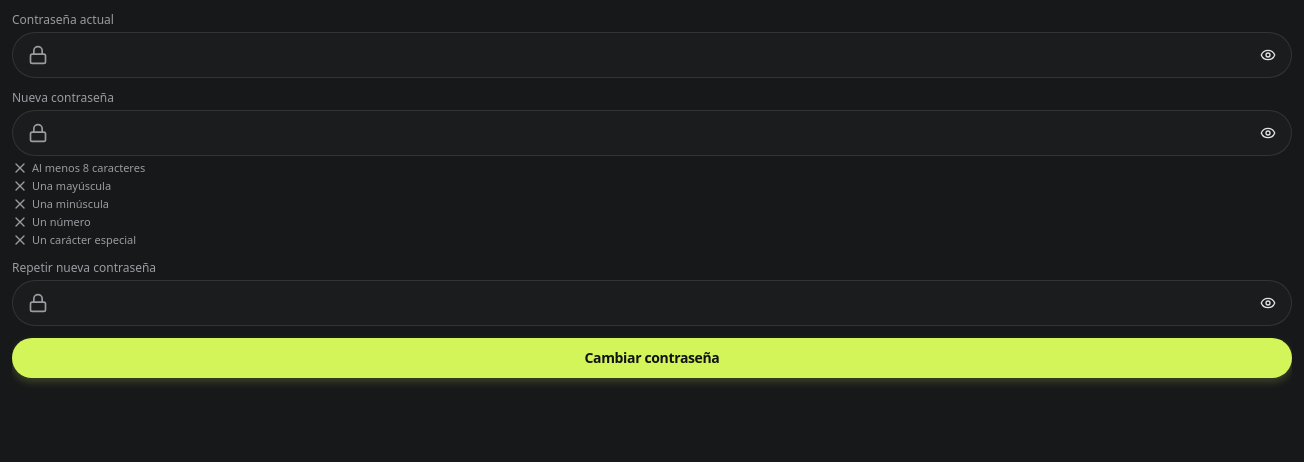
it: ChangePasswordForm › no envía si las contraseñas no coinciden
Step 1. Type "Athletica123!" into the password field labelled "Contraseña actual" → (652, 55), box [12, 32, 1292, 78]
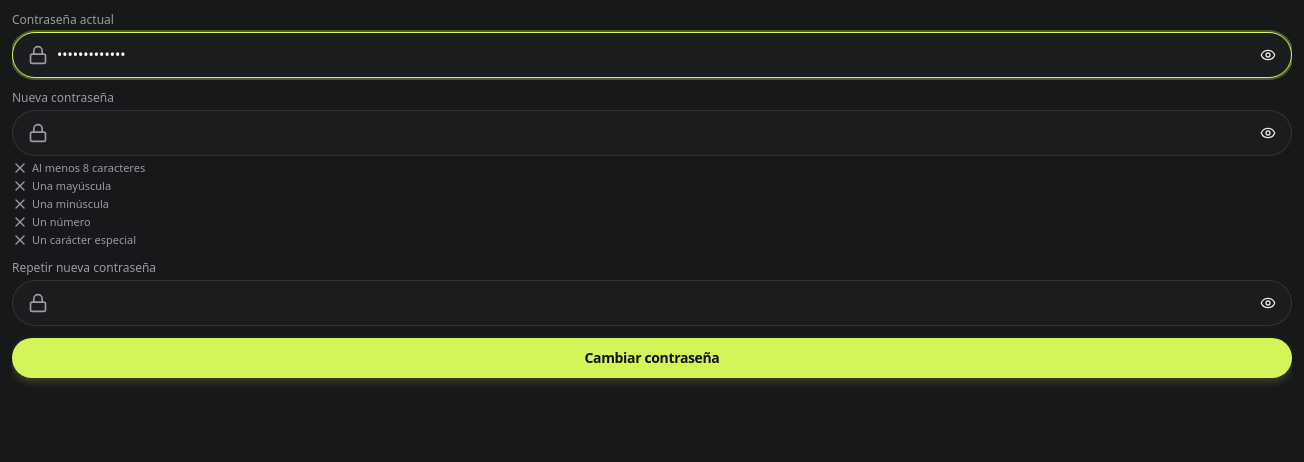
Step 2. Type "Athletica456!" into the password field labelled "Nueva contraseña" → (652, 133), box [12, 110, 1292, 156]
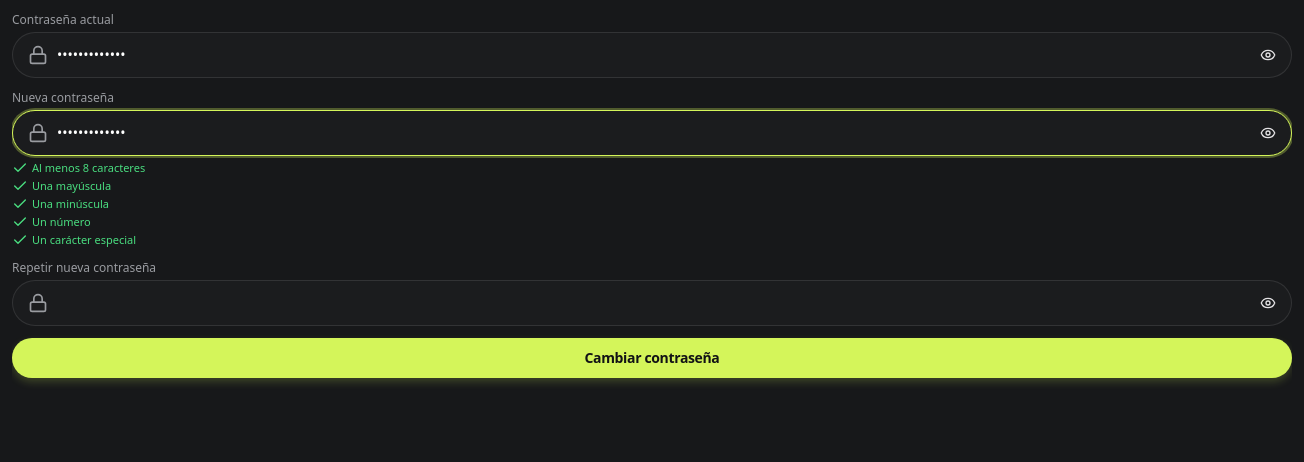
Step 3. Type "Otra123456!" into the password field labelled "Repetir nueva contraseña" → (652, 303), box [12, 280, 1292, 326]
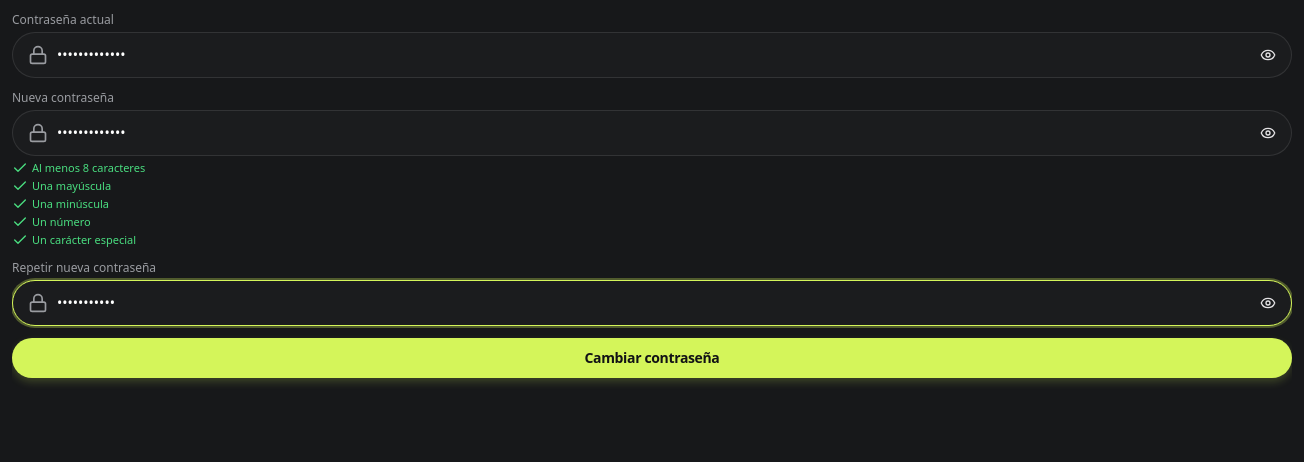
Step 4. Click the button "Cambiar contraseña" → (652, 358), box [12, 338, 1292, 378]
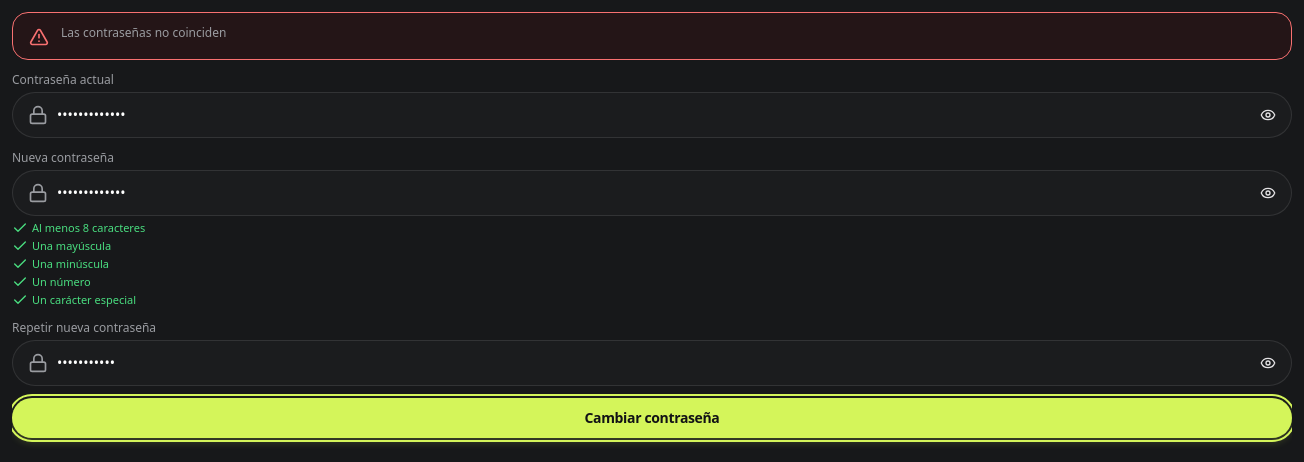
Check: the text "Las contraseñas no coinciden" is shown, box [61, 24, 226, 41]
